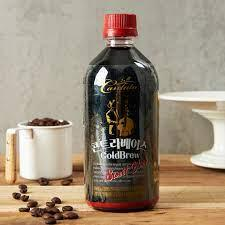contrabass_sweetblack: (71, 9, 166, 215)
